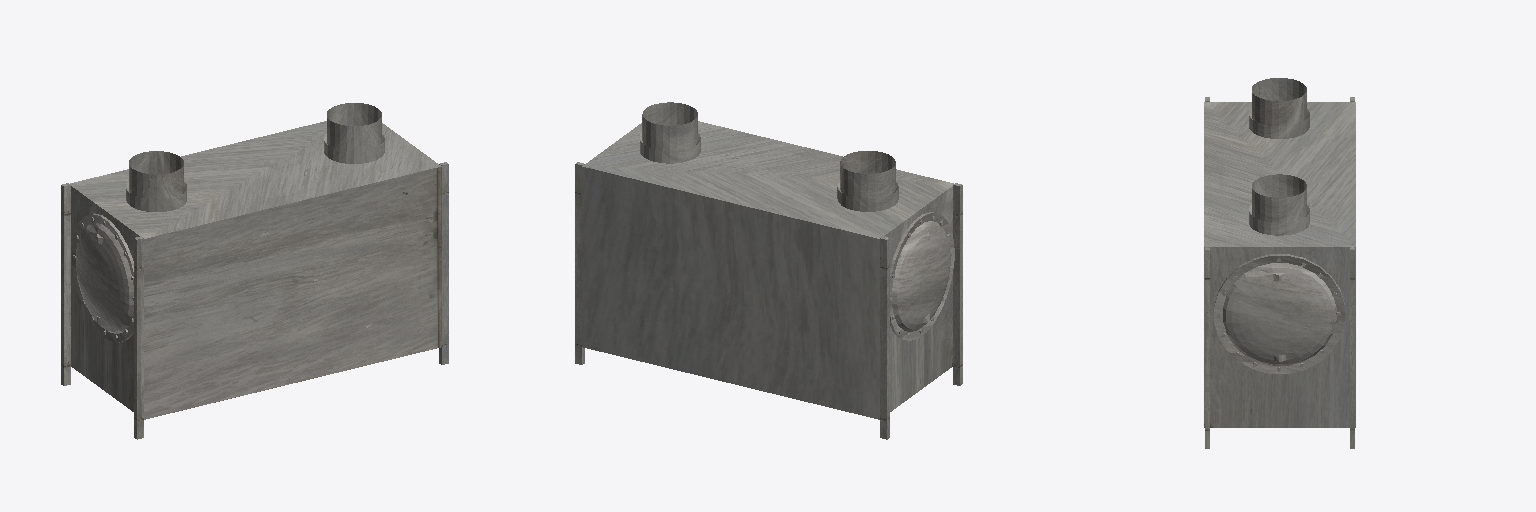
3 views of the same model, side by side, from view 1: azimuth 30°, elevation 25°; view 2: azimuth 150°, elevation 25°; view 3: azimuth 270°, elevation 25° (orthographic).
Visible parts, largest first — view 1: Mesh_none; view 2: Mesh_none; view 3: Mesh_none.
Part boxes in pixels (bbox=[...]): Mesh_none: bbox=[61, 103, 448, 439]; Mesh_none: bbox=[575, 102, 962, 439]; Mesh_none: bbox=[1204, 78, 1355, 448].
Size of the model in its own units: 17.97 by 12.57 by 7.3.
1 materials, 1 textured.